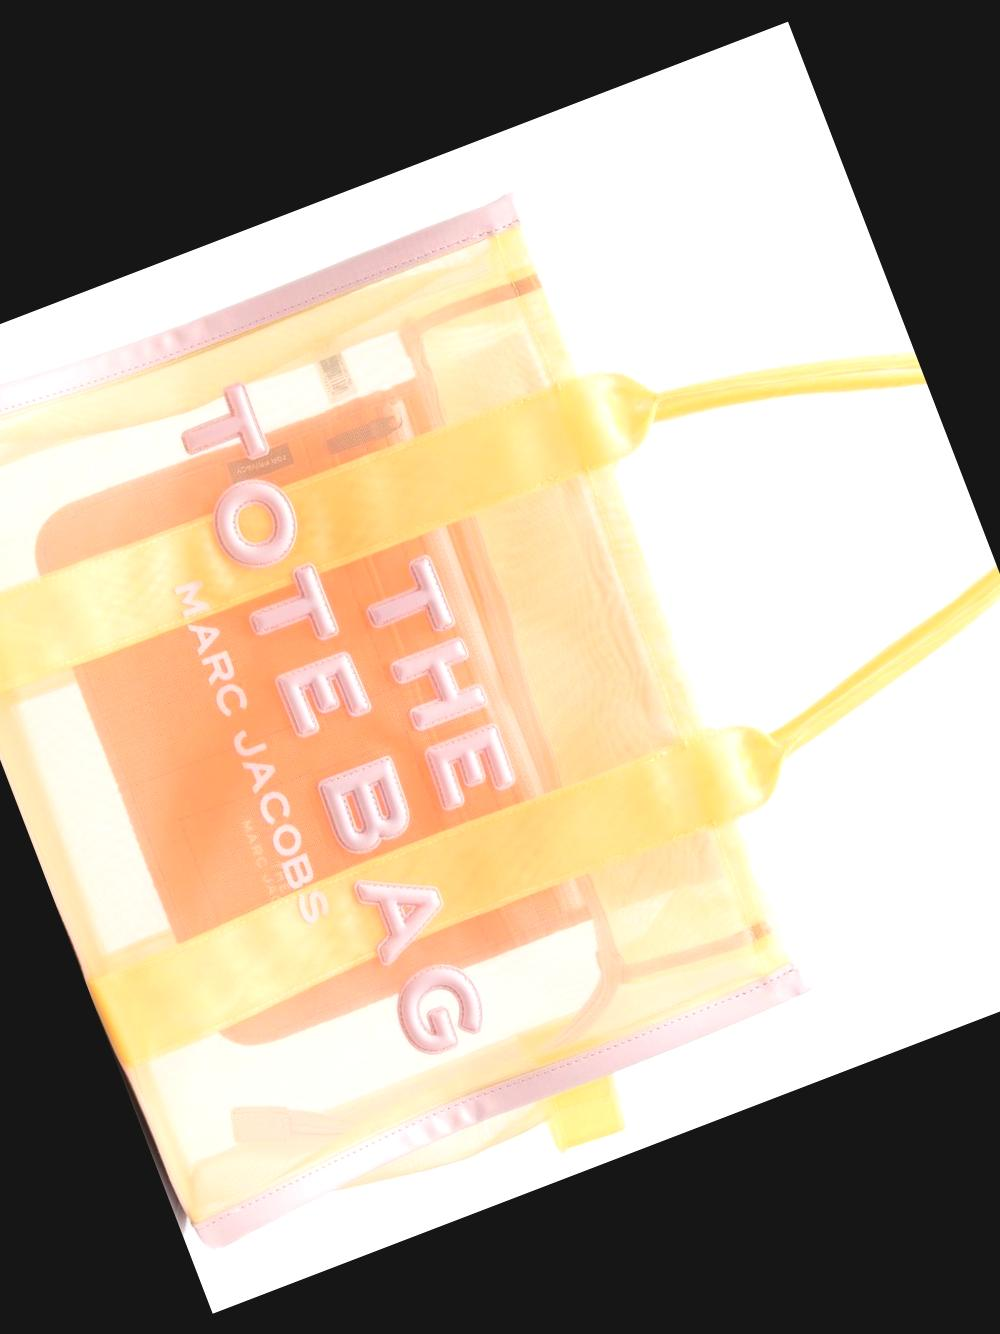MARC-JACOBS: (172, 578, 331, 925)
